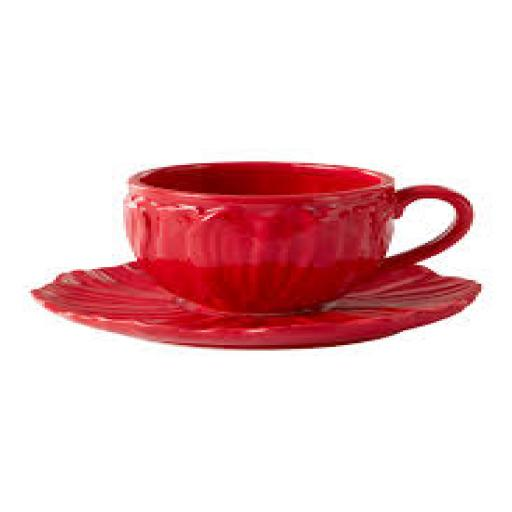red mug: (126, 162, 472, 313)
